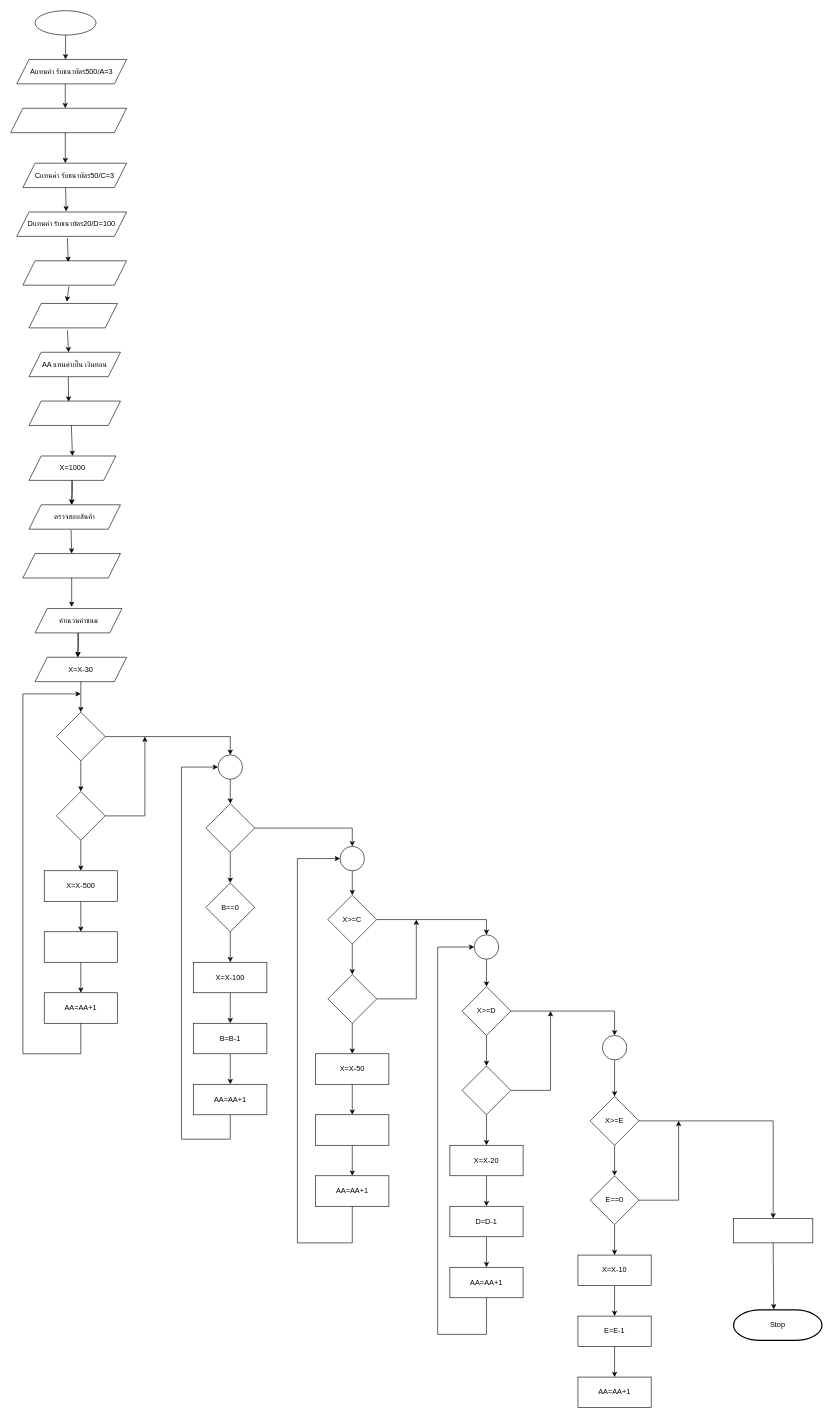
This 833x1418 diagram has some shape labels left out. The shapes that lost their labels are listed below. From the top down, each one's centre as x and y in pixels, then its label:
At pixel 65 22: "Start".
At pixel 68 120: "Bแทนค่า รับธนาบัตร100./B=2".
At pixel 74 272: "Cแทนค่า รับธนาบัตร10=200".
At pixel 72 315: "รับรายการขนม".
At pixel 74 412: "กำหนดค่าขนม 30".
At pixel 71 565: "จ่ายธนาบัตร X".
At pixel 80 736: "X>=A".
At pixel 80 815: "A==0".
At pixel 230 827: "X>=B".
At pixel 80 946: "A=A-1".
At pixel 352 998: "C==0".
At pixel 486 1090: "D==0".
At pixel 352 1129: "C=C-1".
At pixel 773 1230: "สรุปถอนเงิน".
